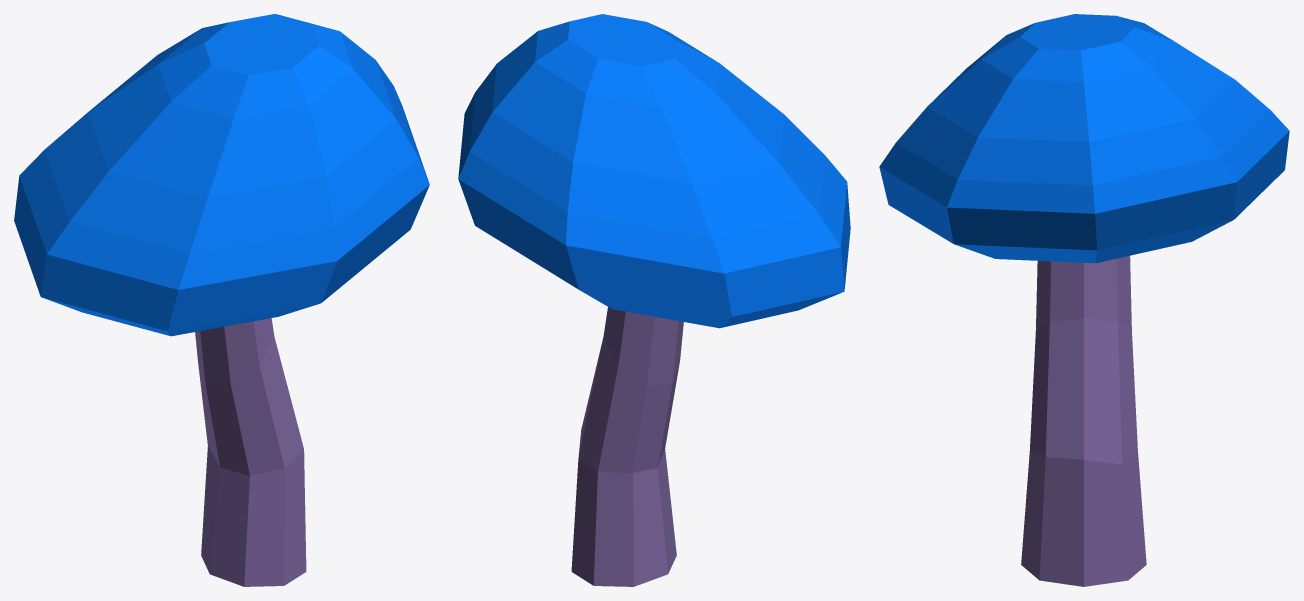
Rendered from BLUE_SHROOM.fbx.
3 views of the same model, side by side, from view 1: azimuth 30°, elevation 25°; view 2: azimuth 150°, elevation 25°; view 3: azimuth 270°, elevation 25° (orthographic). The views are drawn at different scales.
Parts seen in each view (by area): view 1: Circle; view 2: Circle; view 3: Circle.
Boxes of the visible parts, bbox=[...] form: Circle: bbox=[14, 14, 429, 586]; Circle: bbox=[458, 14, 850, 586]; Circle: bbox=[879, 14, 1289, 586].
Bounding box in the file's own units: 110 × 150 × 103.
